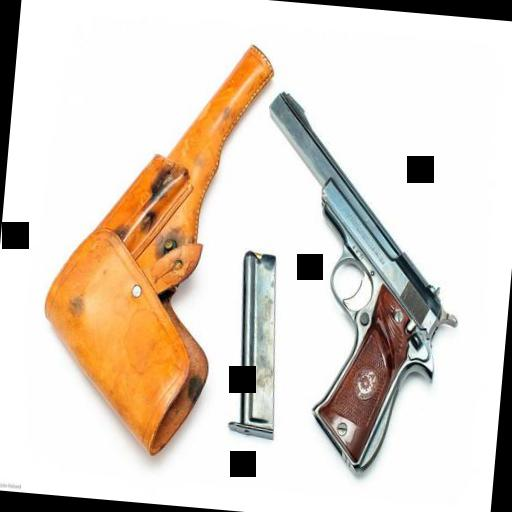Handgun: (232, 82, 470, 488)
